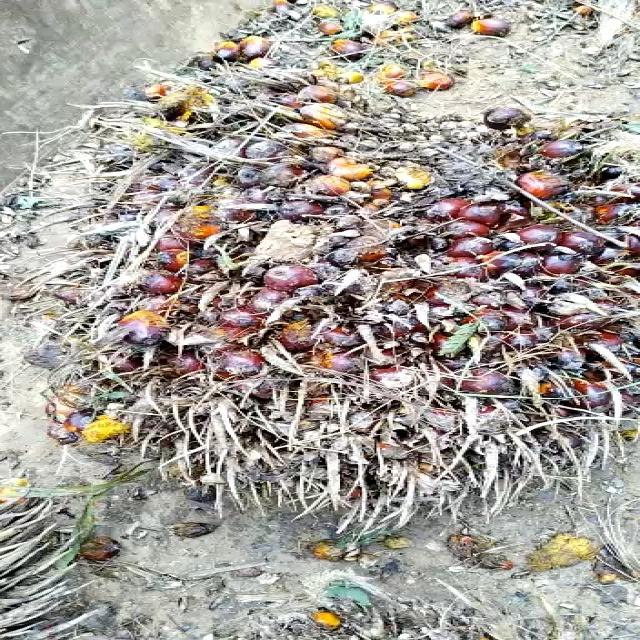palm oil: (41, 36, 640, 554)
